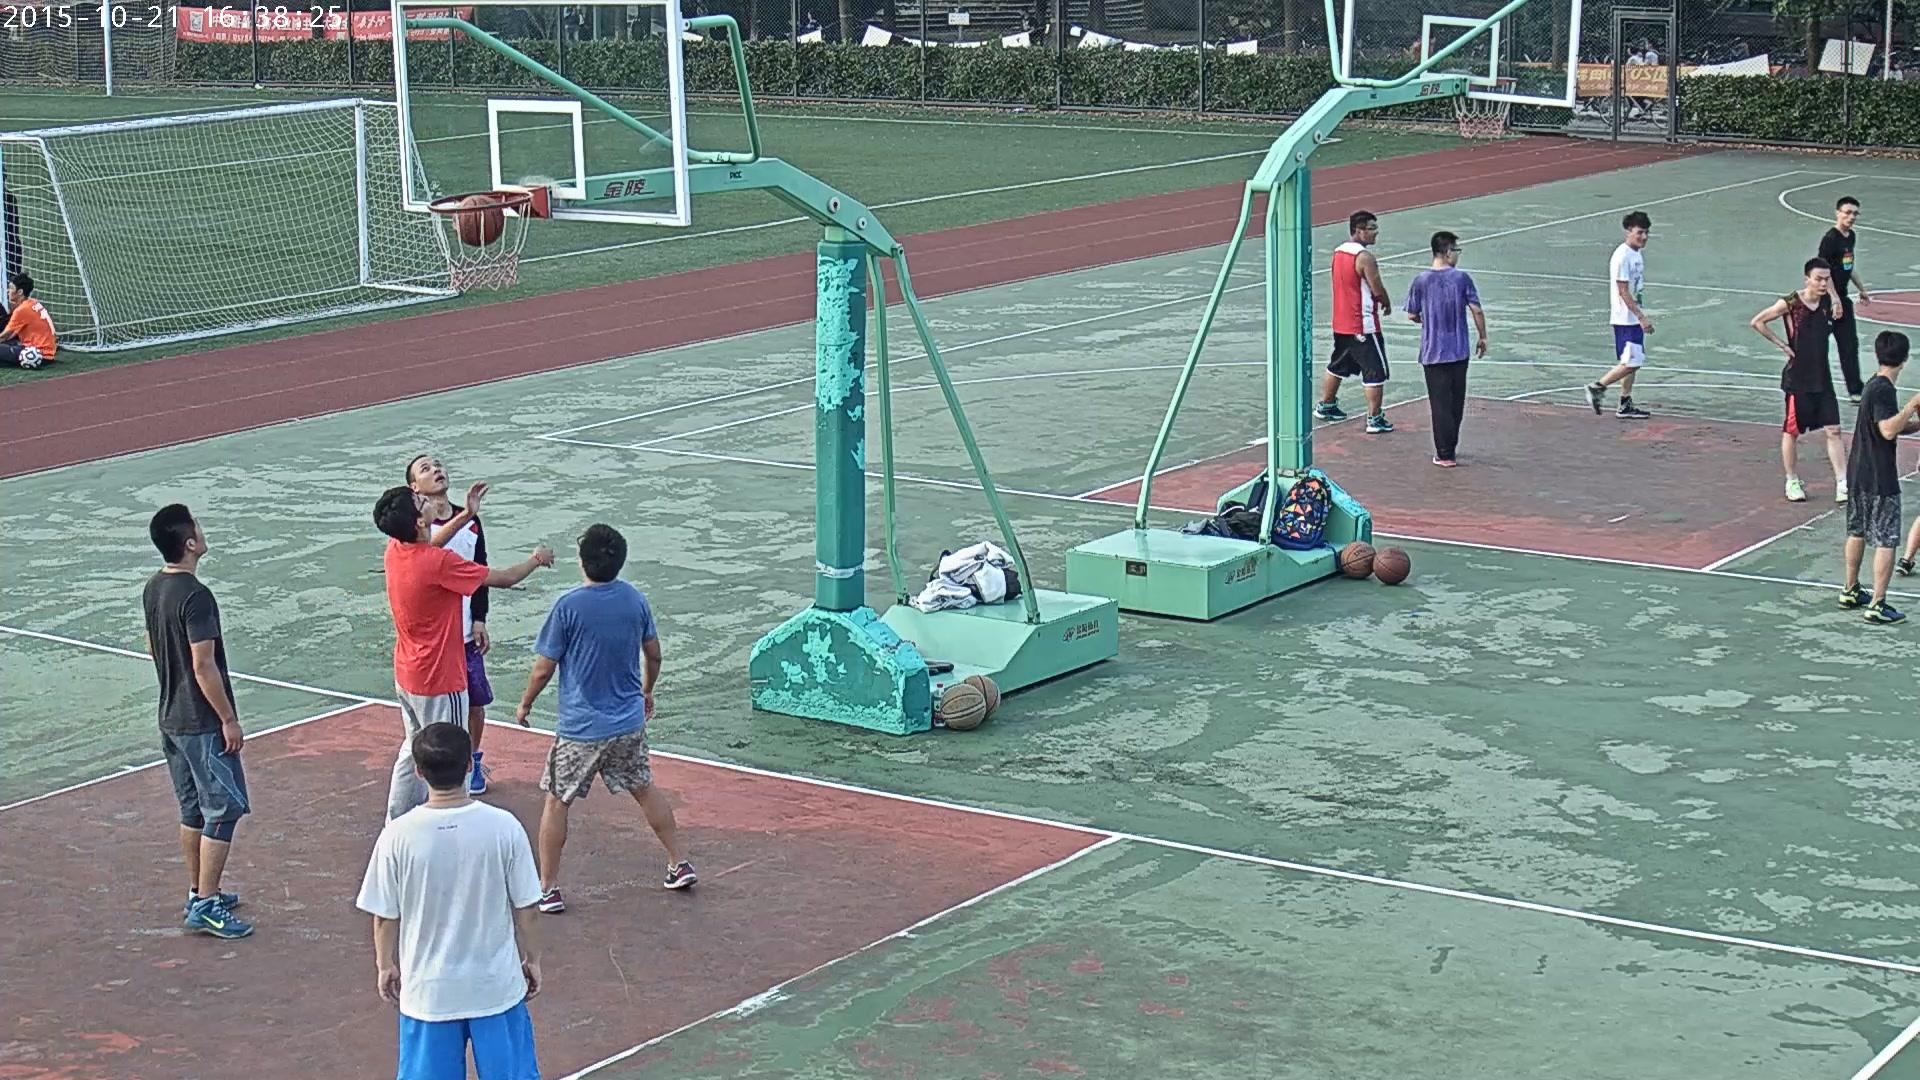face: (414, 455, 450, 492), (414, 492, 438, 519), (194, 517, 208, 554), (1810, 268, 1829, 295), (1840, 204, 1859, 227), (1362, 220, 1378, 245), (1630, 225, 1647, 248), (7, 283, 18, 301), (1450, 248, 1457, 265), (1023, 21, 1030, 29), (1878, 68, 1884, 75), (1645, 39, 1649, 49), (1627, 46, 1631, 55), (807, 10, 810, 18)
